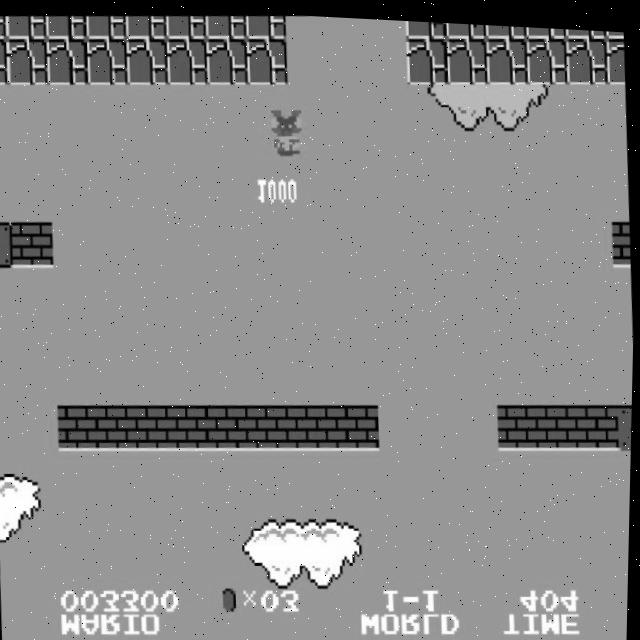1- brick_block: (12, 220, 56, 269), (58, 403, 102, 452), (98, 402, 142, 451), (138, 402, 182, 451), (218, 401, 262, 450), (258, 401, 302, 450), (298, 400, 342, 449), (498, 398, 542, 447), (538, 397, 582, 446), (578, 397, 622, 446), (178, 402, 222, 450), (338, 400, 382, 448), (612, 215, 633, 262)
13- mystery_block: (618, 397, 634, 445)
17- undestructible_block: (166, 35, 210, 85), (205, 34, 249, 84), (245, 34, 289, 84), (405, 32, 449, 82), (485, 31, 529, 81), (565, 30, 609, 80), (445, 32, 489, 81), (6, 37, 49, 87), (46, 36, 89, 86), (126, 35, 169, 85), (526, 30, 569, 80), (86, 36, 129, 85), (5, 14, 47, 41), (45, 14, 87, 41), (85, 13, 127, 40), (165, 12, 207, 39), (205, 12, 247, 39), (125, 13, 167, 39), (245, 12, 287, 38), (605, 31, 626, 79), (405, 17, 447, 36), (445, 18, 487, 36), (485, 20, 527, 35), (525, 21, 567, 34), (565, 23, 607, 34), (0, 38, 8, 85), (0, 16, 7, 40), (605, 25, 624, 32)
3- empty_block: (0, 221, 14, 269)
